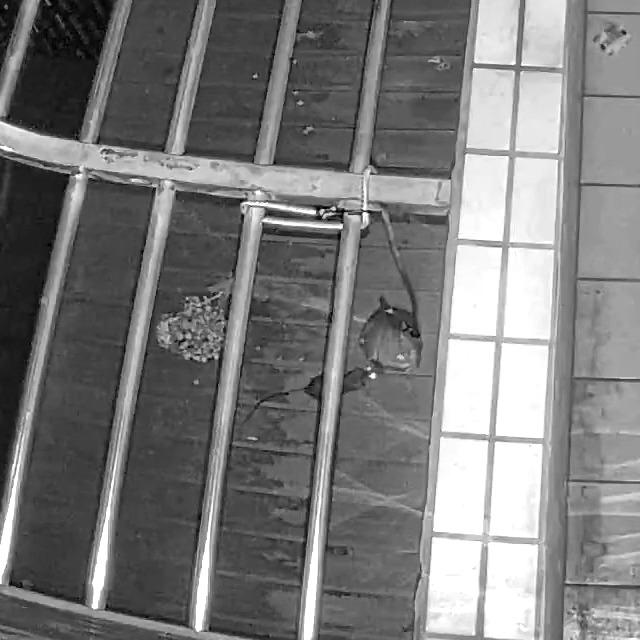rat: (239, 364, 381, 428)
